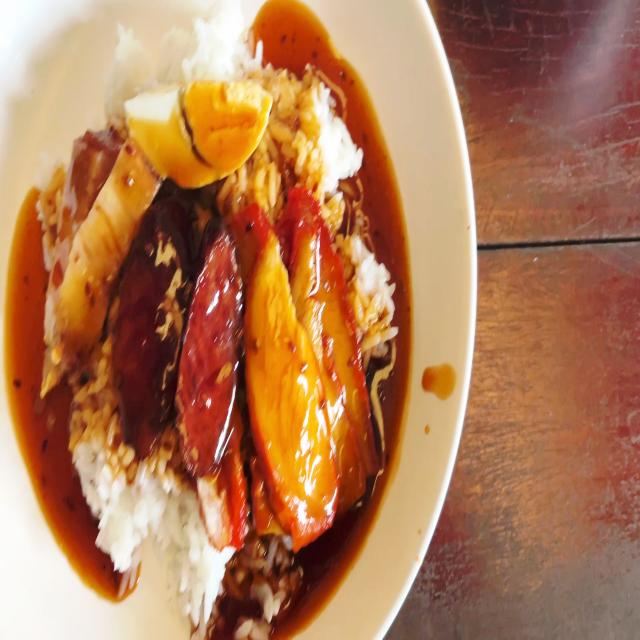boiled_egg: (128, 90, 268, 176)
chainese_sausage: (122, 204, 243, 460), (126, 212, 191, 428), (189, 253, 243, 454)
crispy_pork: (46, 124, 148, 352)
red_pork: (246, 210, 360, 503), (199, 475, 247, 538)
red_pork_and_crispy_pork: (37, 0, 402, 640)
rice: (120, 455, 212, 606), (69, 352, 127, 556), (109, 14, 260, 80), (277, 66, 342, 196), (348, 232, 393, 351)
